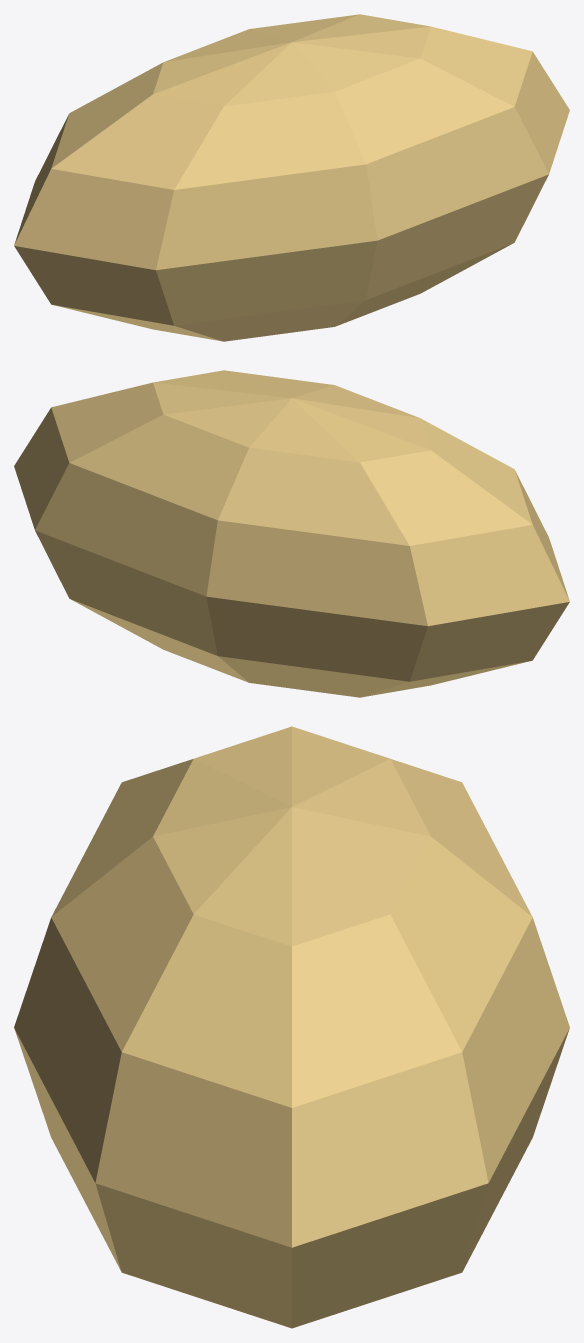
File: bread.glb
3 views of the same model, one above another, from view 1: azimuth 30°, elevation 25°; view 2: azimuth 150°, elevation 25°; view 3: azimuth 270°, elevation 25° (orthographic). The views are drawn at different scales.
Parts seen in each view (by area): view 1: bread; view 2: bread; view 3: bread.
Part boxes in pixels (bbox=[...]): bread: bbox=[14, 14, 569, 341]; bread: bbox=[14, 370, 569, 697]; bread: bbox=[14, 726, 569, 1328].
Bounding box in the file's own units: 0.21 × 0.098 × 0.112.
